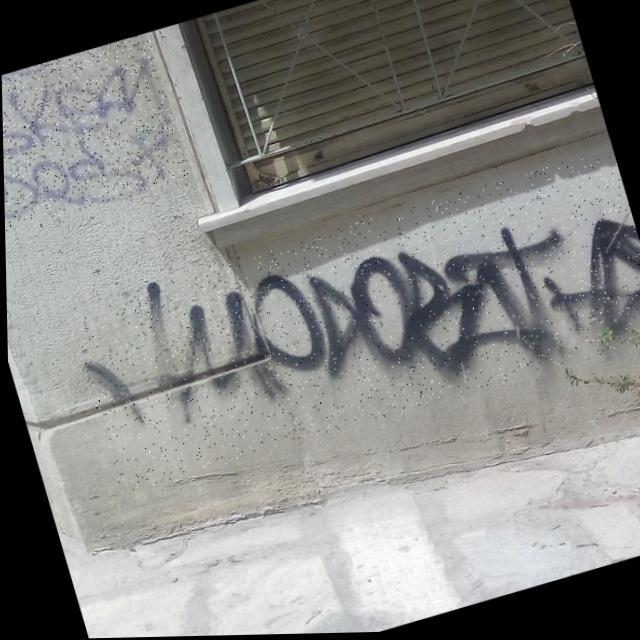-: (62, 149, 640, 495), (1, 32, 190, 239)
